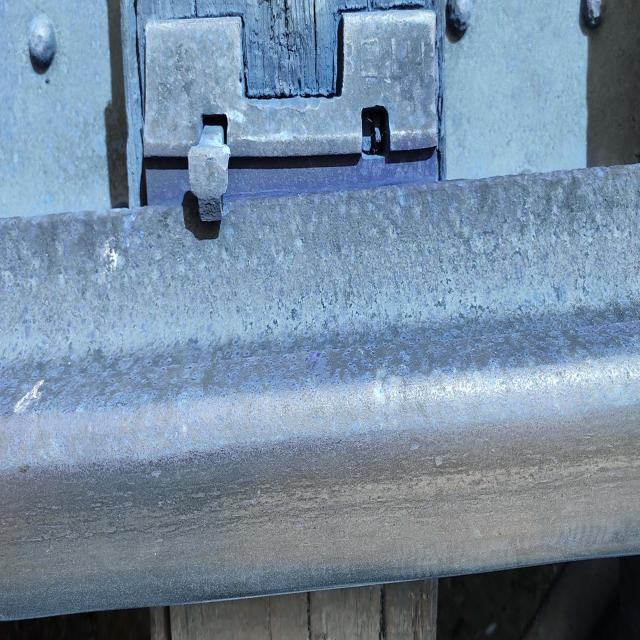Good Fasteners: (188, 125, 230, 221)
Missing Dogscrew: (362, 106, 390, 155)
